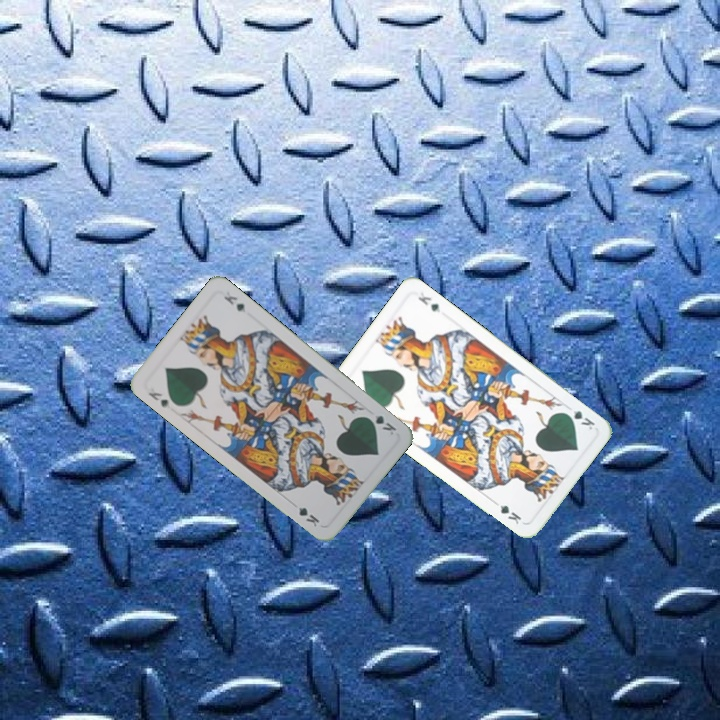GK: (560, 402, 598, 432), (362, 411, 399, 438), (144, 388, 174, 411)
